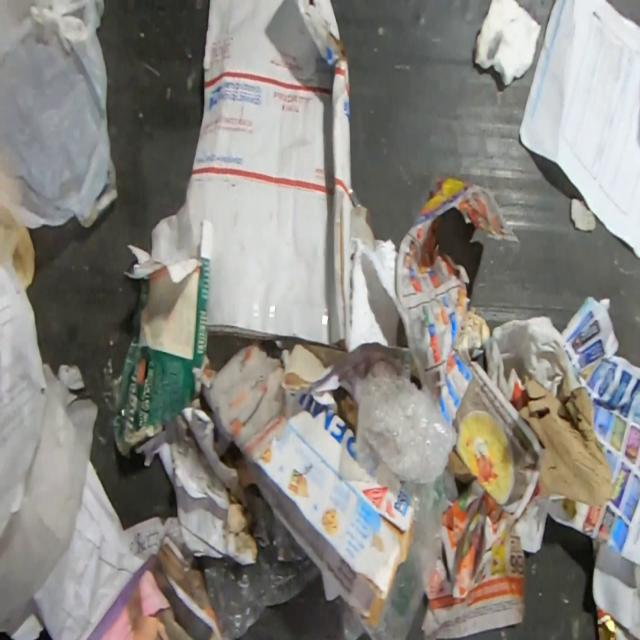cardboard: (185, 0, 351, 353), (223, 392, 415, 628), (105, 199, 214, 461), (518, 372, 612, 508)
soft_plastic: (199, 481, 320, 640), (362, 468, 458, 640), (352, 372, 459, 496), (596, 605, 628, 640)
